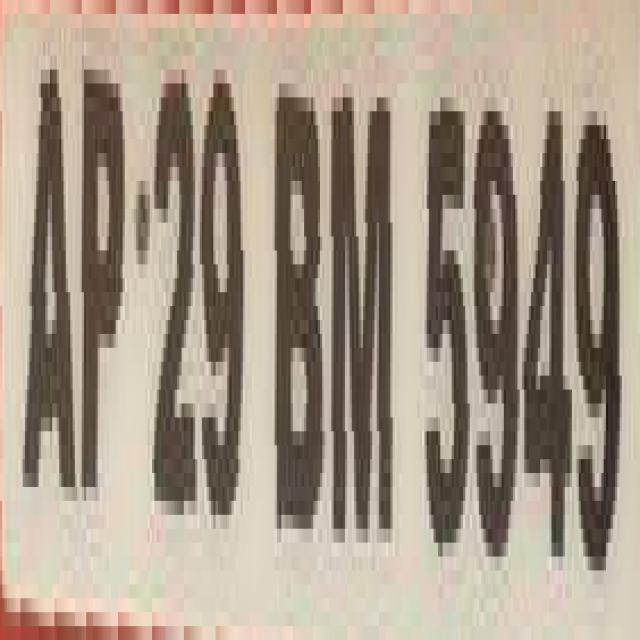license_plate: (13, 0, 640, 626)
